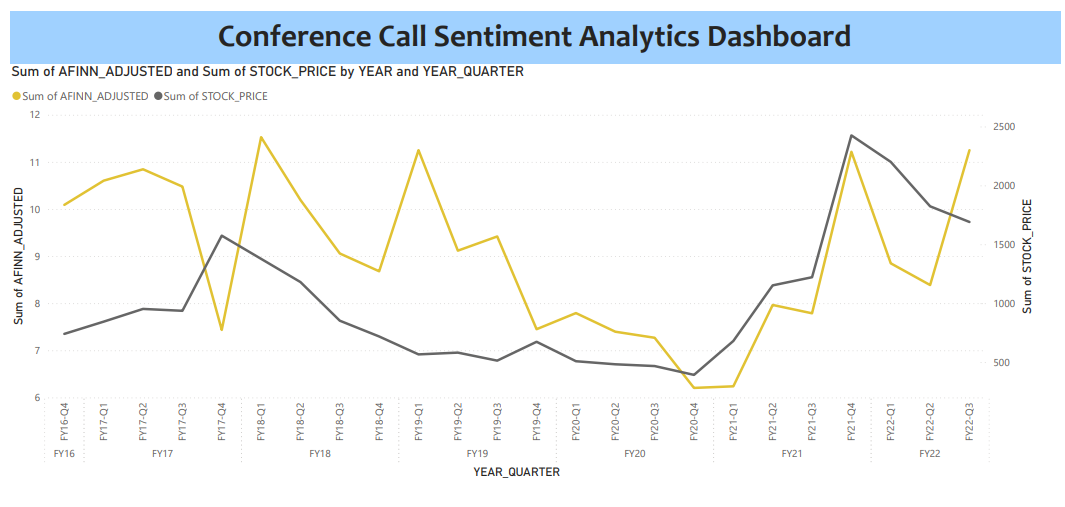

The page's visual inventory and layout, read from the dashboard file:
{"tool":"powerbi","page":{"name":"Price vs Sentiment2","canvas":[1280,720],"ordinal":2},"visuals":[{"type":"lineChart","fields":{"Y":["Sum(sentiment_analysis (3).AFINN_ADJUSTED)"],"Y2":["Sum(sentiment_analysis (3).STOCK_PRICE)"],"Category":["sentiment_analysis (3).YEAR","sentiment_analysis (3).YEAR_QUARTER"]},"box":[10.4,73,1235.6,503.8],"z":0},{"type":"textbox","box":[12.5,10.8,1259.8,62.6],"z":1000}]}

Visuals, with their boxes on the page's 1280x720 design canvas (x1, y1, x2, y2). These are canvas units, not pixel positions in the 1065x507 screenshot, which may show the page scaled, cropped or inside an application window:
lineChart - Sum(sentiment_analysis (3).AFINN_ADJUSTED) x Sum(sentiment_analysis (3).STOCK_PRICE): 10, 73, 1246, 577
textbox: 12, 11, 1272, 73
